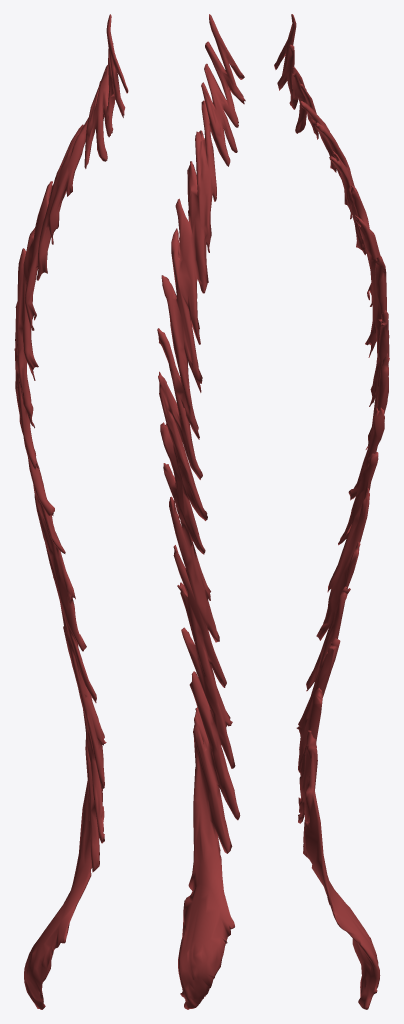
The model's file is rotatores-r.glb.
The picture shows the model from 3 angles, left to right: view 1: azimuth 90°, elevation 25°; view 2: azimuth 150°, elevation 25°; view 3: azimuth 270°, elevation 25°; orthographic projection. The views are drawn at different scales.
Visible parts, largest first — view 1: Rotatores.r; view 2: Rotatores.r; view 3: Rotatores.r.
Boxes of the visible parts, box(x1,y1,x2,y2) form: Rotatores.r: box(14, 14, 128, 1009); Rotatores.r: box(157, 14, 245, 1009); Rotatores.r: box(274, 14, 389, 1009).
Size of the model in its own units: 0.0382 by 0.6354 by 0.0665.
